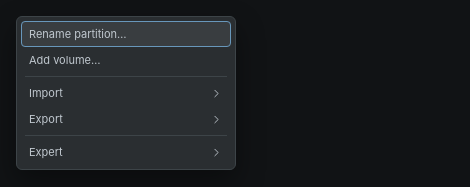
Test: ImageTreeContextMenu › keeps a submenu hidden until it has been positioned beside its parent
Expected: the menu named "Partition 1 actions" is shown, left=16, top=16, right=236, bottom=170
Hover over the menu item "Import" at (126, 93), box left=21, top=80, right=231, bottom=106
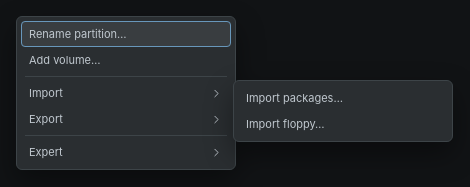
Expected: the menu named "Import actions" is shown, left=233, top=80, right=453, bottom=142
